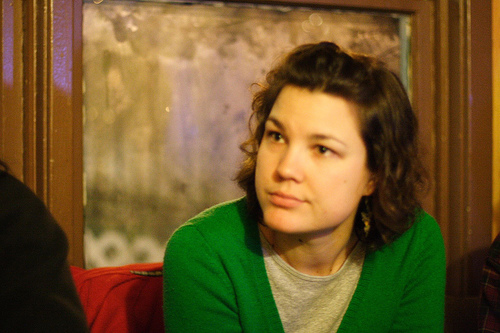without_mask: (254, 80, 381, 242)
